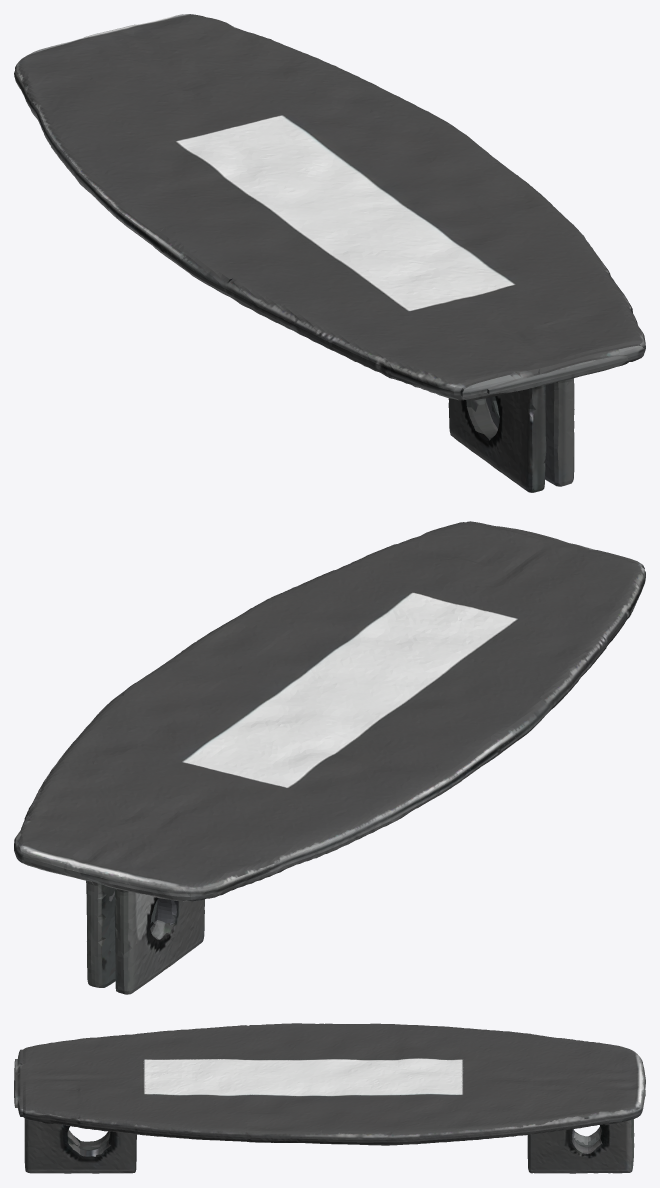
3 renders of one model, top to bottom at view 1: azimuth 30°, elevation 25°; view 2: azimuth 150°, elevation 25°; view 3: azimuth 270°, elevation 25°, orthographic. The views are drawn at different scales.
Parts seen in each view (by area): view 1: world; view 2: world; view 3: world.
Boxes of the visible parts, left/top/right/bottom form: world: left=14, top=14, right=645, bottom=492; world: left=14, top=521, right=645, bottom=994; world: left=14, top=1023, right=645, bottom=1173.
Bounding box in the file's own units: 0.4278 × 0.1562 × 0.9968.
1 material, 1 textured.
